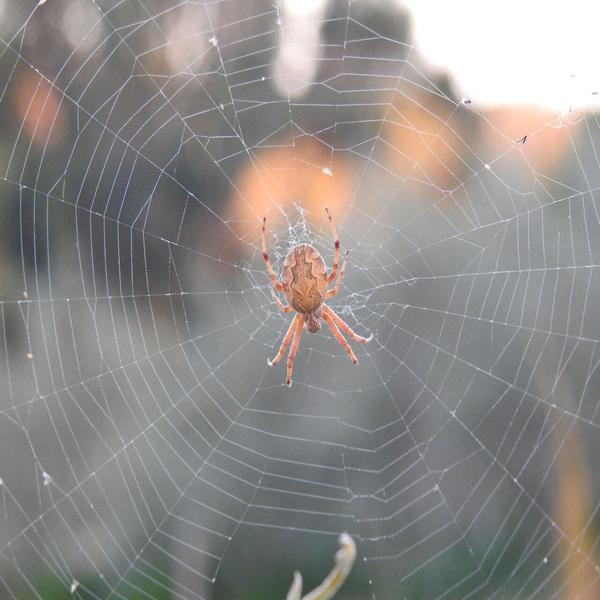Garden_Orb_Weaver_Spider: (261, 208, 375, 386)
